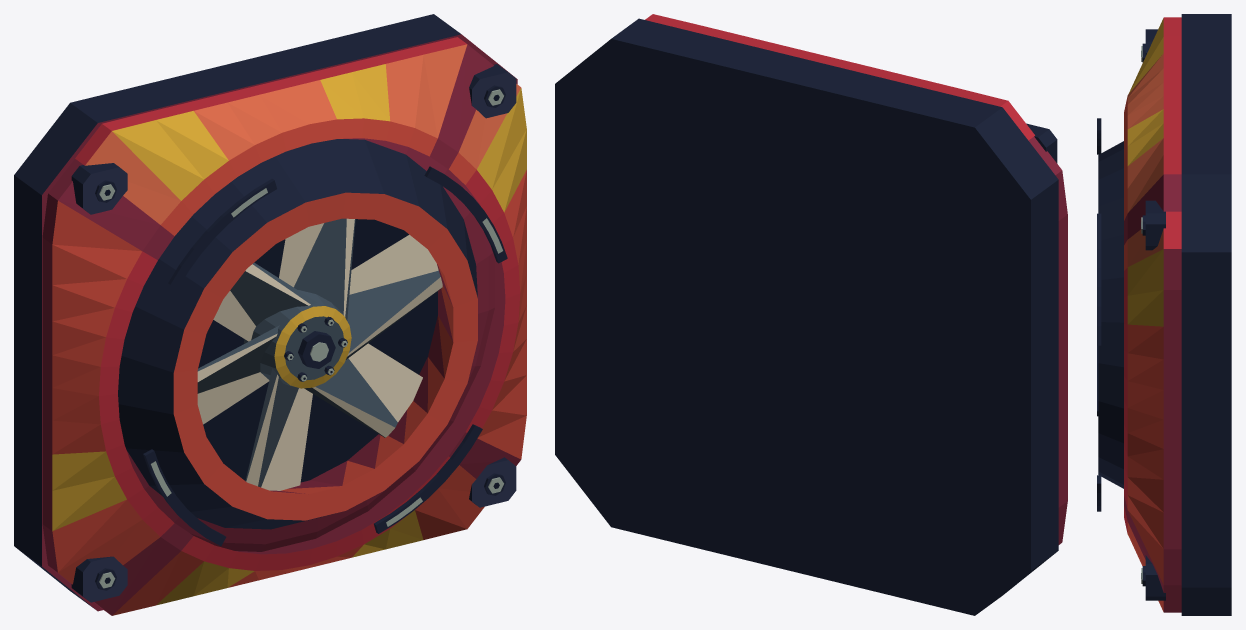
The model's file is axial_extractor.glb.
3 views of the same model, side by side, from view 1: azimuth 30°, elevation 25°; view 2: azimuth 150°, elevation 25°; view 3: azimuth 270°, elevation 25° (orthographic). The views are drawn at different scales.
Parts seen in each view (by area): view 1: Pressed_octagonal_cowl, Inlet_flange, Swept_impeller, Rear_plenum, Rolled_lip, Inlet_throat, Captive_lugs, Quarter_lock_track, Hub_cap, Fasteners, Spindle; view 2: Rear_plenum, Pressed_octagonal_cowl; view 3: Rear_plenum, Pressed_octagonal_cowl, Rolled_lip, Captive_lugs, Quarter_lock_track, Fasteners.
Part boxes in pixels (x1,y1,x2,y2): Pressed_octagonal_cowl: (42, 37, 526, 615); Inlet_flange: (126, 138, 494, 551); Swept_impeller: (197, 218, 442, 490); Rear_plenum: (14, 14, 517, 611); Rolled_lip: (118, 139, 477, 529); Inlet_throat: (198, 219, 437, 482); Captive_lugs: (71, 64, 516, 602); Quarter_lock_track: (143, 166, 507, 545); Hub_cap: (274, 306, 351, 388); Fasteners: (95, 85, 505, 590); Spindle: (298, 331, 335, 368); Rear_plenum: (555, 18, 1058, 615); Pressed_octagonal_cowl: (645, 14, 1067, 544); Rear_plenum: (1181, 14, 1231, 615); Pressed_octagonal_cowl: (1124, 17, 1181, 612); Rolled_lip: (1098, 141, 1123, 488); Captive_lugs: (1145, 29, 1165, 600); Quarter_lock_track: (1097, 118, 1101, 511); Fasteners: (1141, 43, 1145, 586).
Size of the model in its own units: 2.08 by 2.04 by 0.568.
